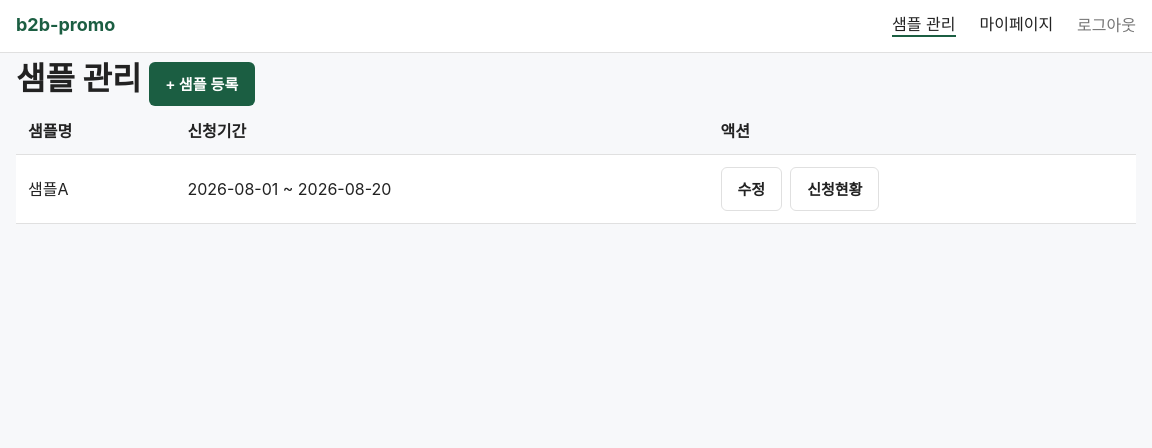
SampleAdminListPage › 수정 버튼 클릭 시 해당 샘플의 수정 폼으로 이동한다
This screenshot has width=1152, height=448.
Expected: the text "샘플A" is shown, [16,154,175,223]
Click the button "수정" at (751, 188), box [720,166,782,210]
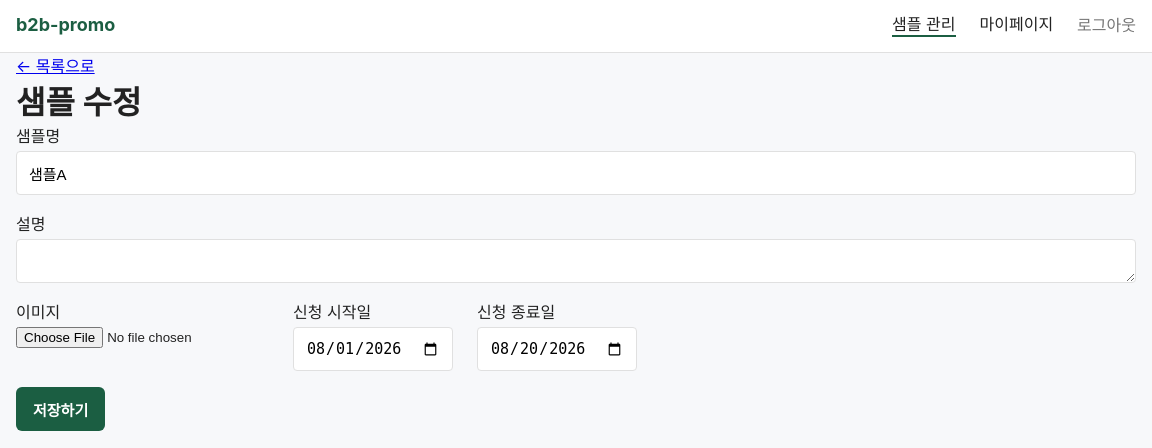
Result: the button "저장하기" is shown at [16,387,105,431]
